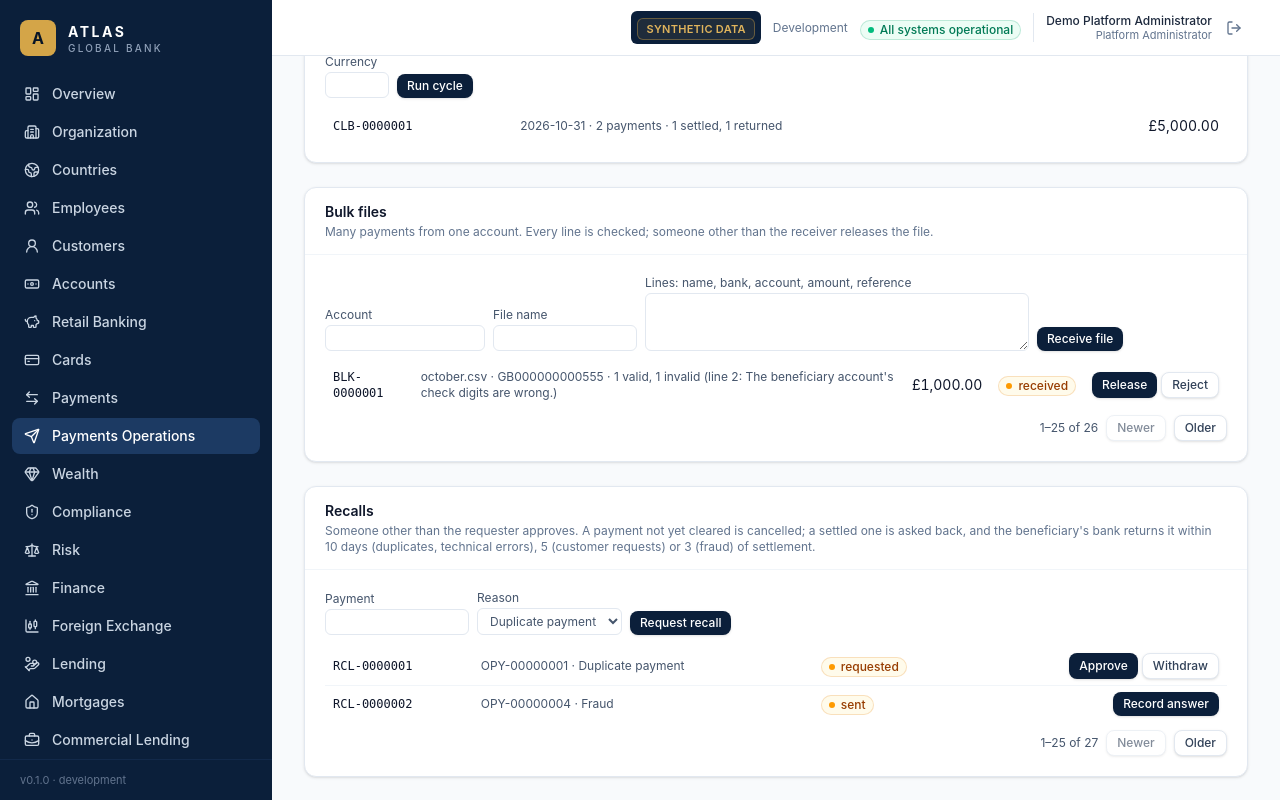
Test case: Payments Operations page › pages back to older bulk files and recalls beyond the newest 25 (PR #32 review)
(page scrolled)
expect the navigation bar named "Bulk file pages" shows "1–25 of 26": met, box [1040, 415, 1227, 441]
What coordinates should you click on to do the following:
click the button "Older" below "£1,000.00"
I would click on:
 (1200, 428)
Its box is [1174, 415, 1227, 441].
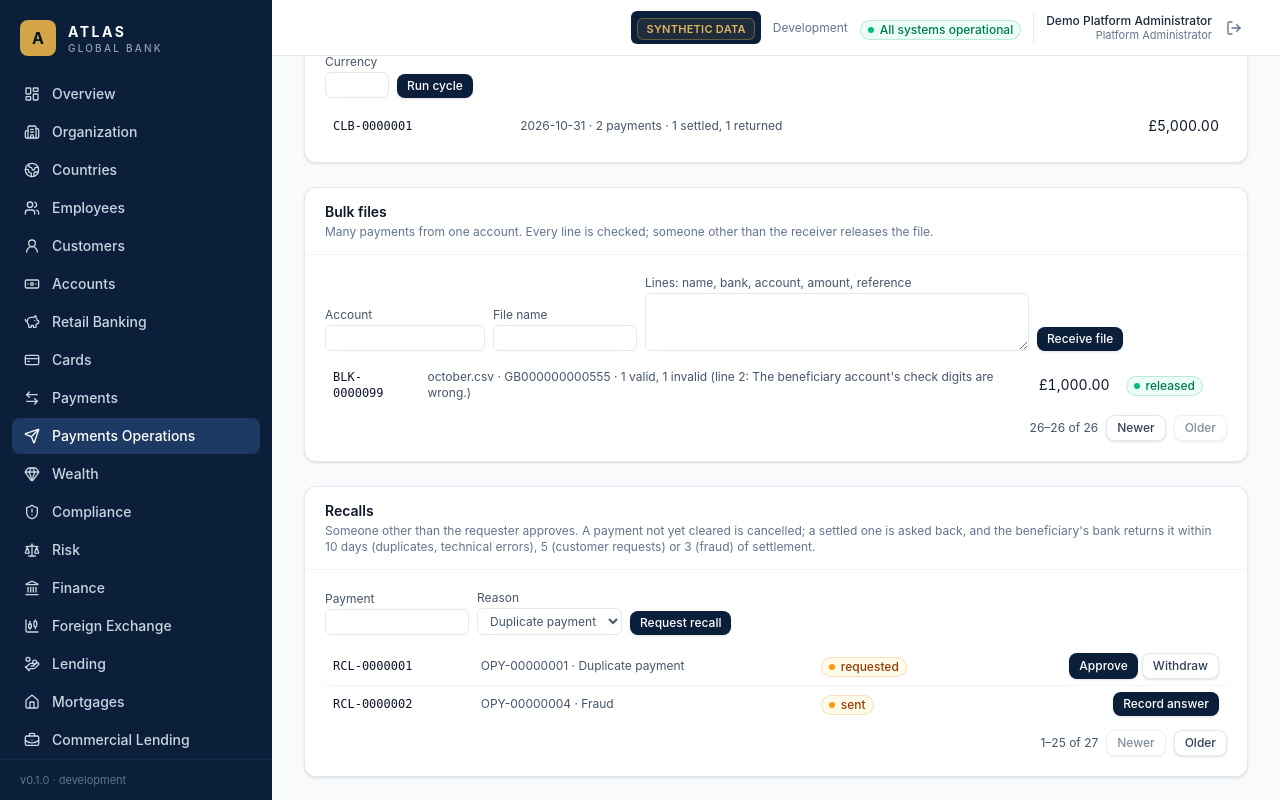
expect the text "BLK-0000099" is shown: met, box [325, 363, 420, 407]
What coordinates should you click on to do the following:
click the button "Older" in the row of "27"
I would click on:
 (1200, 743)
Its box is [1174, 730, 1227, 756].
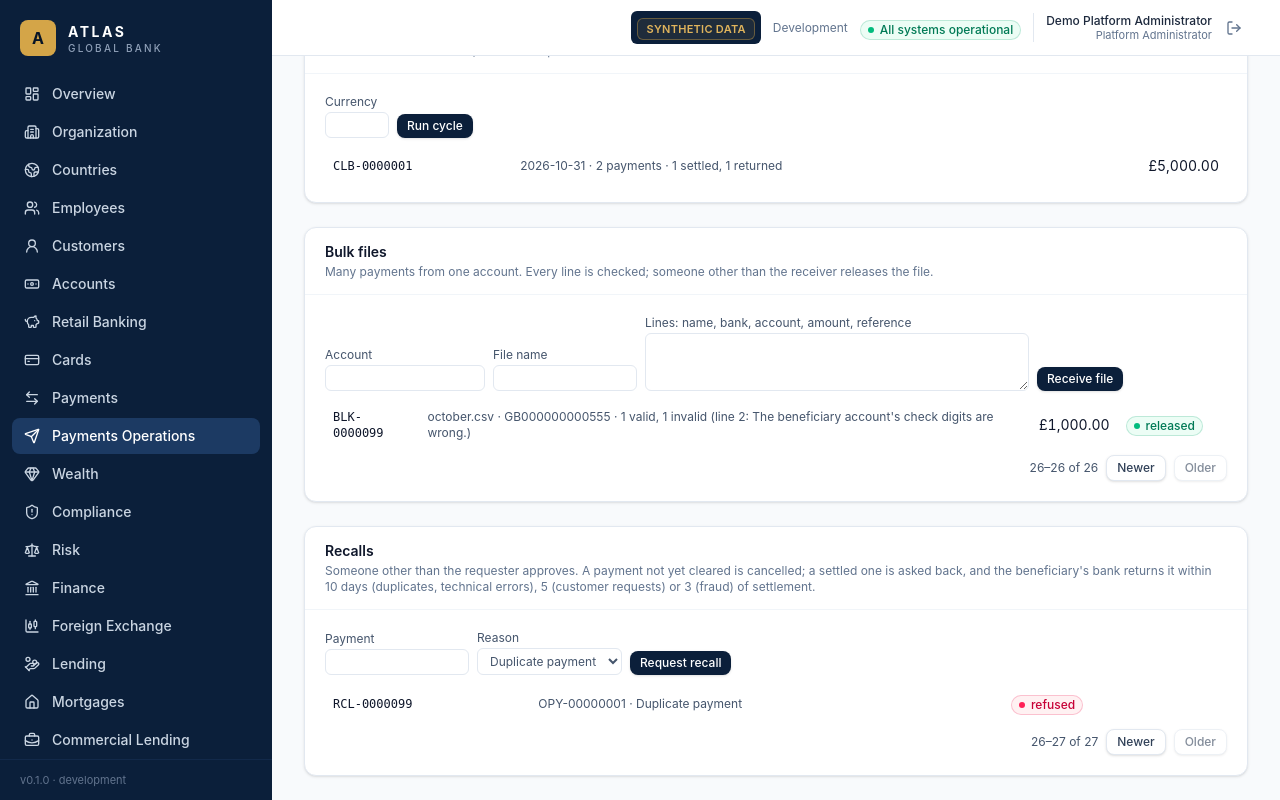
expect the text "RCL-0000099" is shown: met, box [325, 687, 530, 721]
expect the navigation bar named "Recall pages" shows "26–27 of 27": met, box [1031, 729, 1227, 755]
